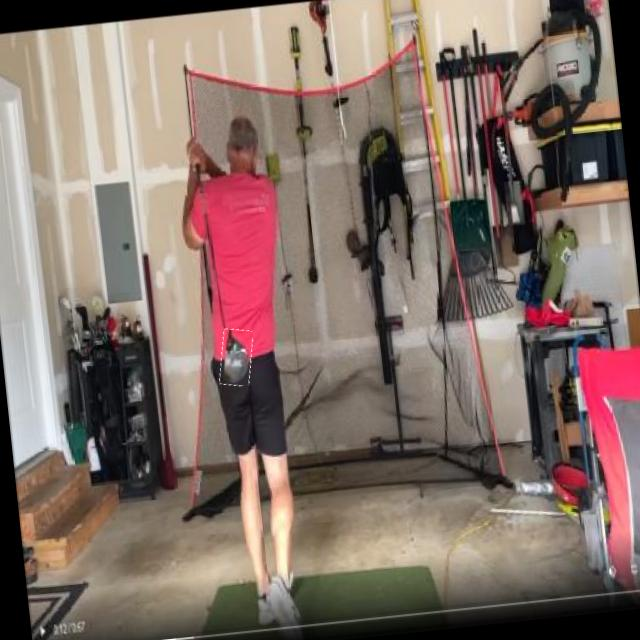club head: (217, 326, 256, 386)
